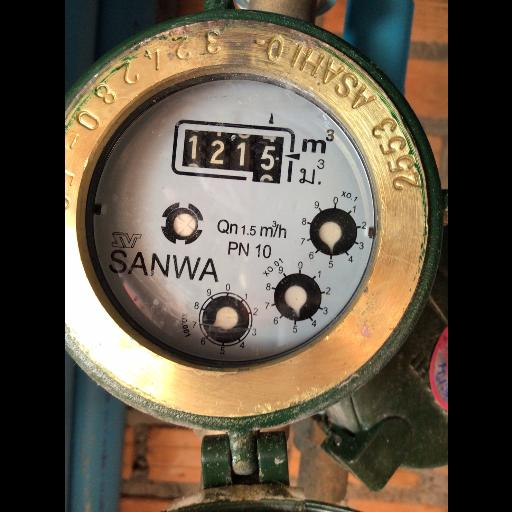1: (185, 129, 204, 168), (232, 133, 250, 172)
2: (206, 131, 228, 170)
5: (257, 135, 280, 183)
border_water_meter_number: (171, 119, 302, 186)
